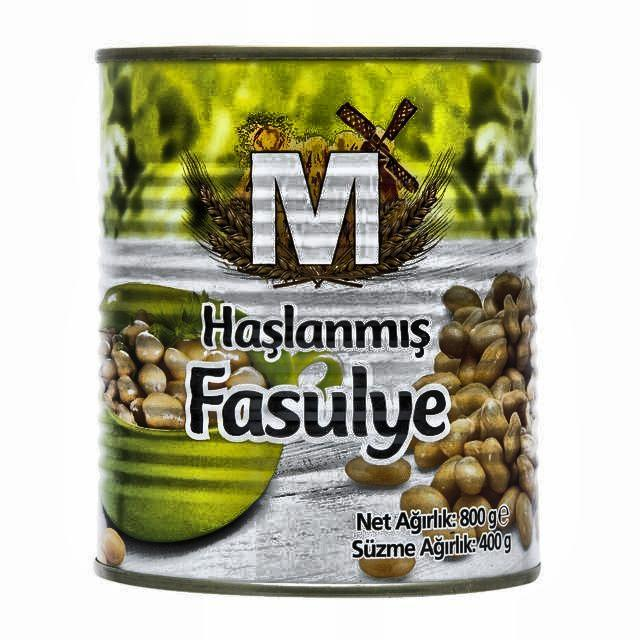metal: (95, 46, 544, 600)
